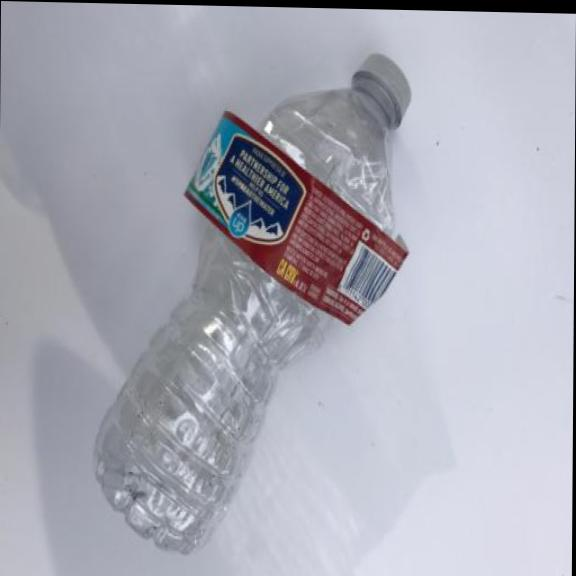Plastik: (83, 41, 417, 567)
